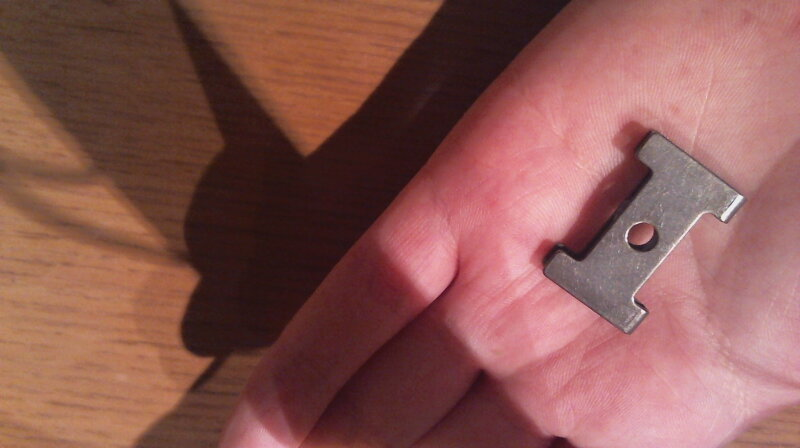O002: (536, 127, 747, 336)
